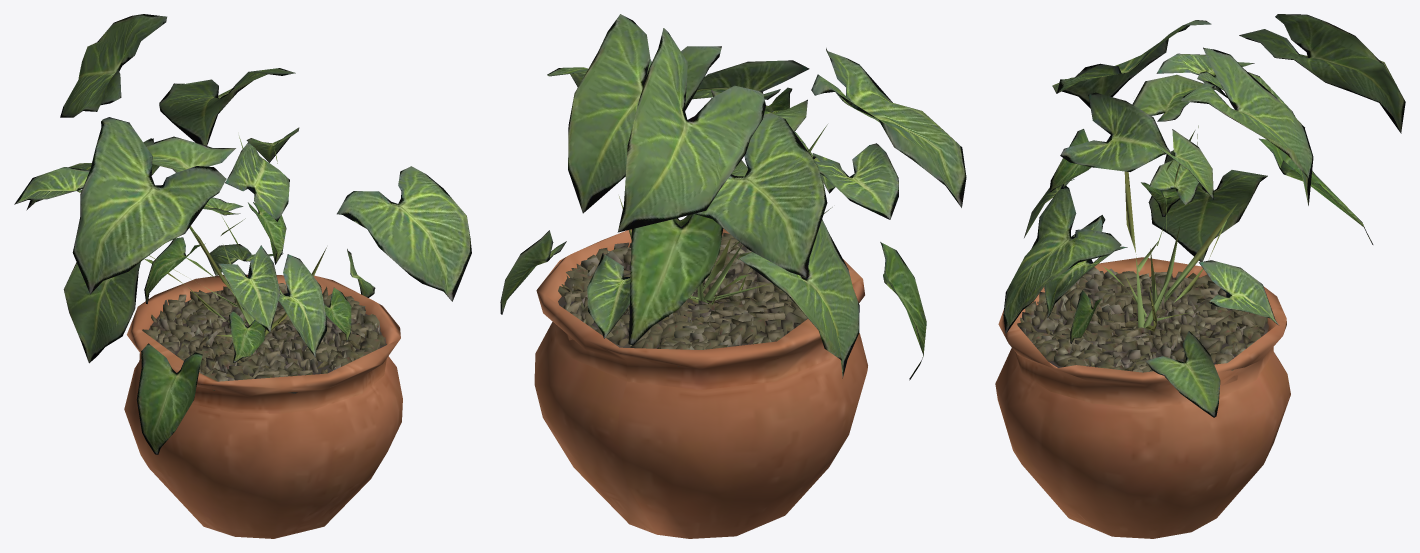
The model's file is cc0_potted_plant.glb.
3 renders of one model, left to right at view 1: azimuth 30°, elevation 25°; view 2: azimuth 150°, elevation 25°; view 3: azimuth 270°, elevation 25°, orthographic. The views are drawn at different scales.
Parts seen in each view (by area): view 1: potted_plant_02_leaves, potted_plant_02_pot, potted_plant_02_dirt; view 2: potted_plant_02_leaves, potted_plant_02_pot, potted_plant_02_dirt; view 3: potted_plant_02_leaves, potted_plant_02_pot, potted_plant_02_dirt.
Boxes of the visible parts, x1,y1,x2,y2 form: potted_plant_02_leaves: (14,14,471,454); potted_plant_02_pot: (124,274,402,538); potted_plant_02_dirt: (142,283,386,393); potted_plant_02_leaves: (500,14,966,380); potted_plant_02_pot: (534,228,867,538); potted_plant_02_dirt: (558,232,807,366); potted_plant_02_leaves: (1003,14,1405,417); potted_plant_02_pot: (995,257,1290,538); potted_plant_02_dirt: (1017,267,1268,372).
Size of the model in its own units: 0.7009 by 0.8395 by 0.6561.
Materials: 2 (2 with a texture image).
